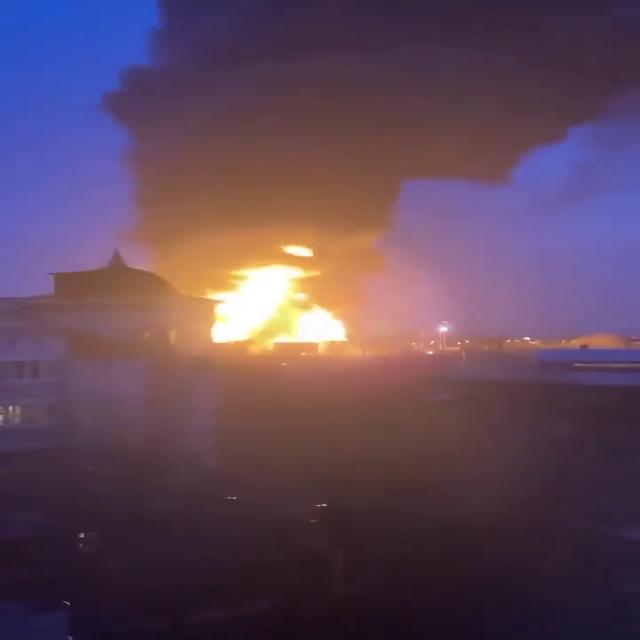Fire: (212, 250, 348, 351)
Smoke: (105, 0, 640, 266)
